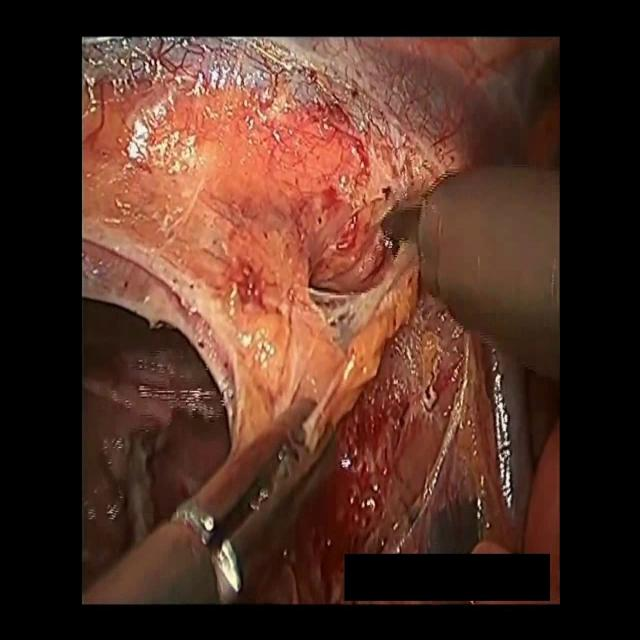surgical-area: (82, 35, 562, 607)
surgical-tool: (80, 396, 336, 610), (415, 168, 562, 386)
